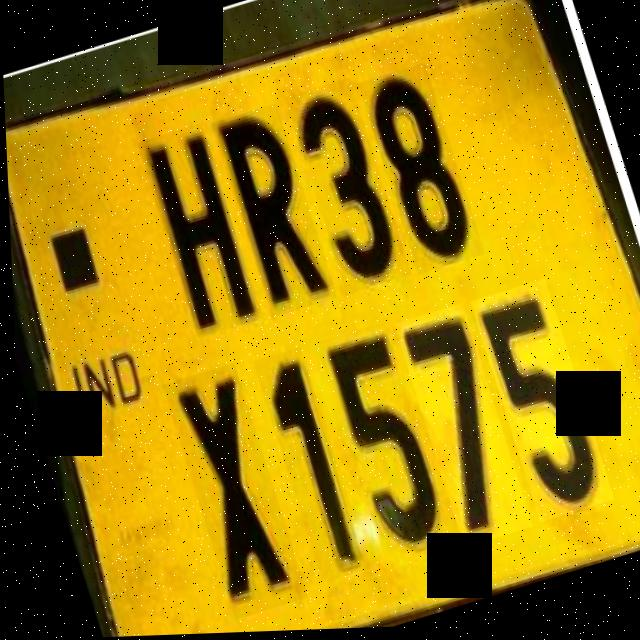1: (249, 347, 365, 587)
3: (283, 78, 409, 299)
5: (466, 280, 610, 527), (312, 323, 447, 564)
7: (390, 304, 528, 552)
8: (357, 63, 483, 279)
H: (135, 123, 260, 340)
R: (209, 104, 335, 322)
X: (157, 362, 303, 622)
